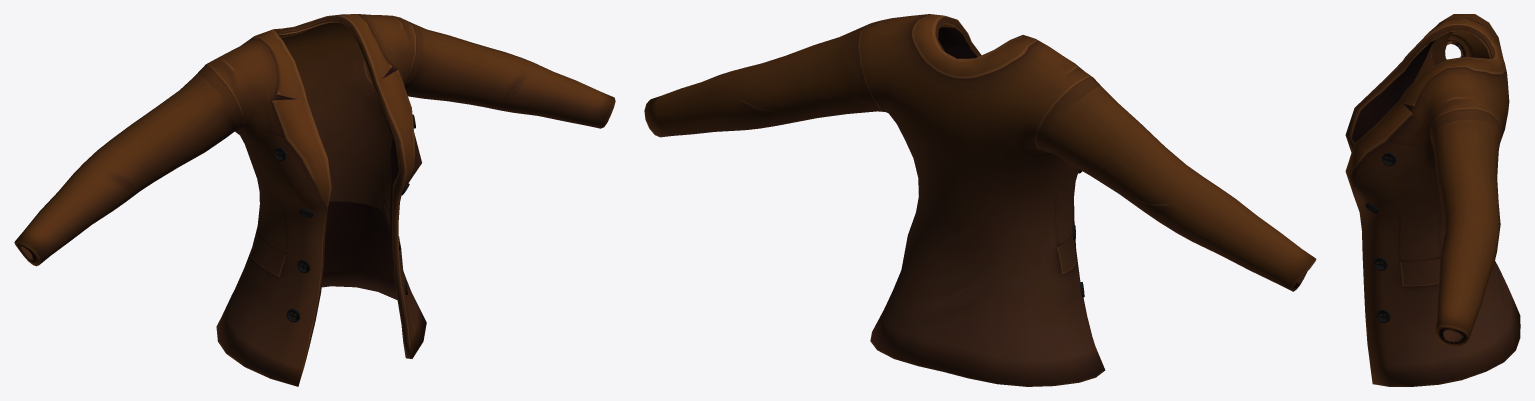
The model's file is coat.fbx.
The picture shows the model from 3 angles, left to right: view 1: azimuth 30°, elevation 25°; view 2: azimuth 150°, elevation 25°; view 3: azimuth 270°, elevation 25°; orthographic projection. The views are drawn at different scales.
Parts seen in each view (by area): view 1: coat; view 2: coat; view 3: coat.
Boxes of the visible parts, bbox=[...] form: coat: bbox=[14, 14, 615, 386]; coat: bbox=[644, 14, 1316, 386]; coat: bbox=[1345, 14, 1520, 386].
Bounding box in the file's own units: 120 × 60.72 × 30.48.
